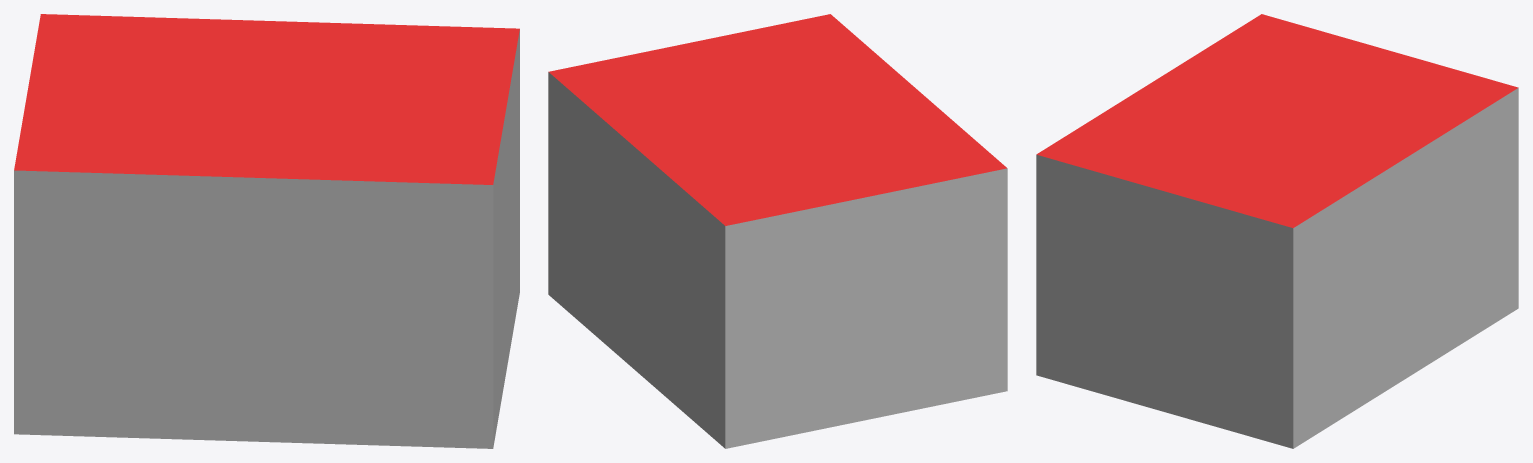
The picture shows the model from 3 angles, left to right: view 1: azimuth 30°, elevation 25°; view 2: azimuth 150°, elevation 25°; view 3: azimuth 270°, elevation 25°; orthographic projection. The views are drawn at different scales.
Size of the model in its own units: 8.32 by 7.93 by 4.
